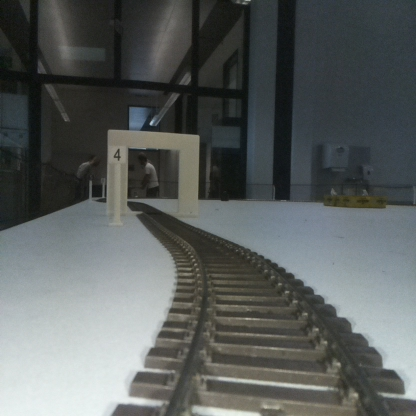white-info-4: (109, 144, 126, 224)
